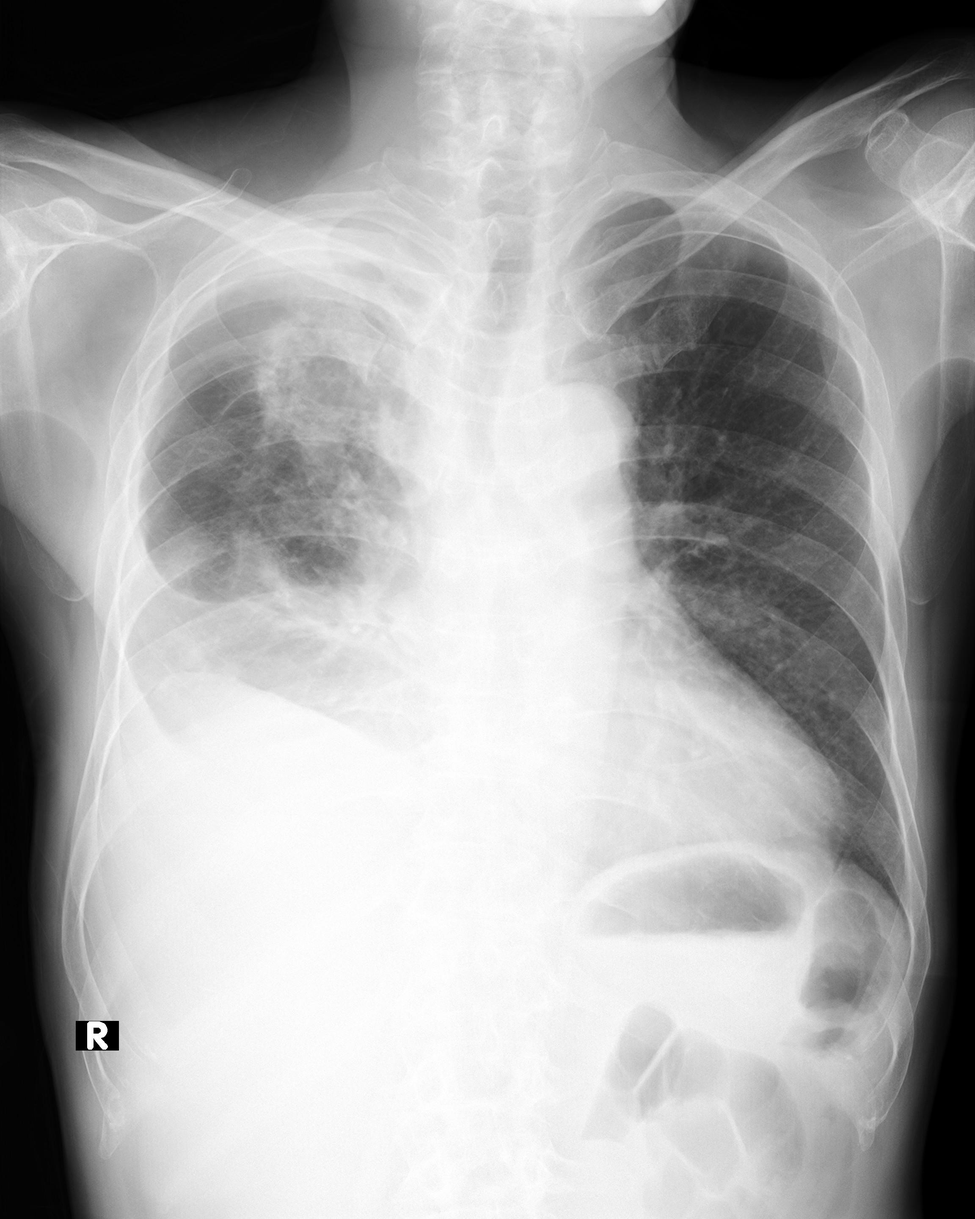Aortic enlargement: (504, 383, 629, 532)
